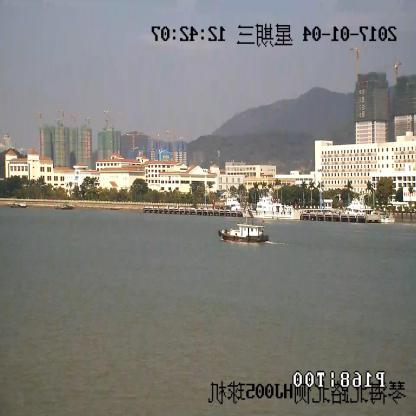Fishing Boat: (218, 221, 268, 243)
